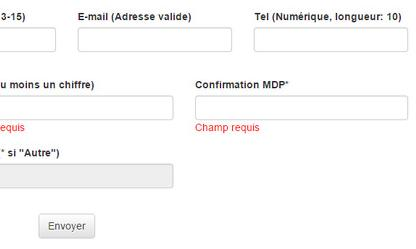button: (37, 213, 97, 238)
field: (192, 94, 410, 122), (74, 24, 234, 55), (253, 25, 408, 54)
